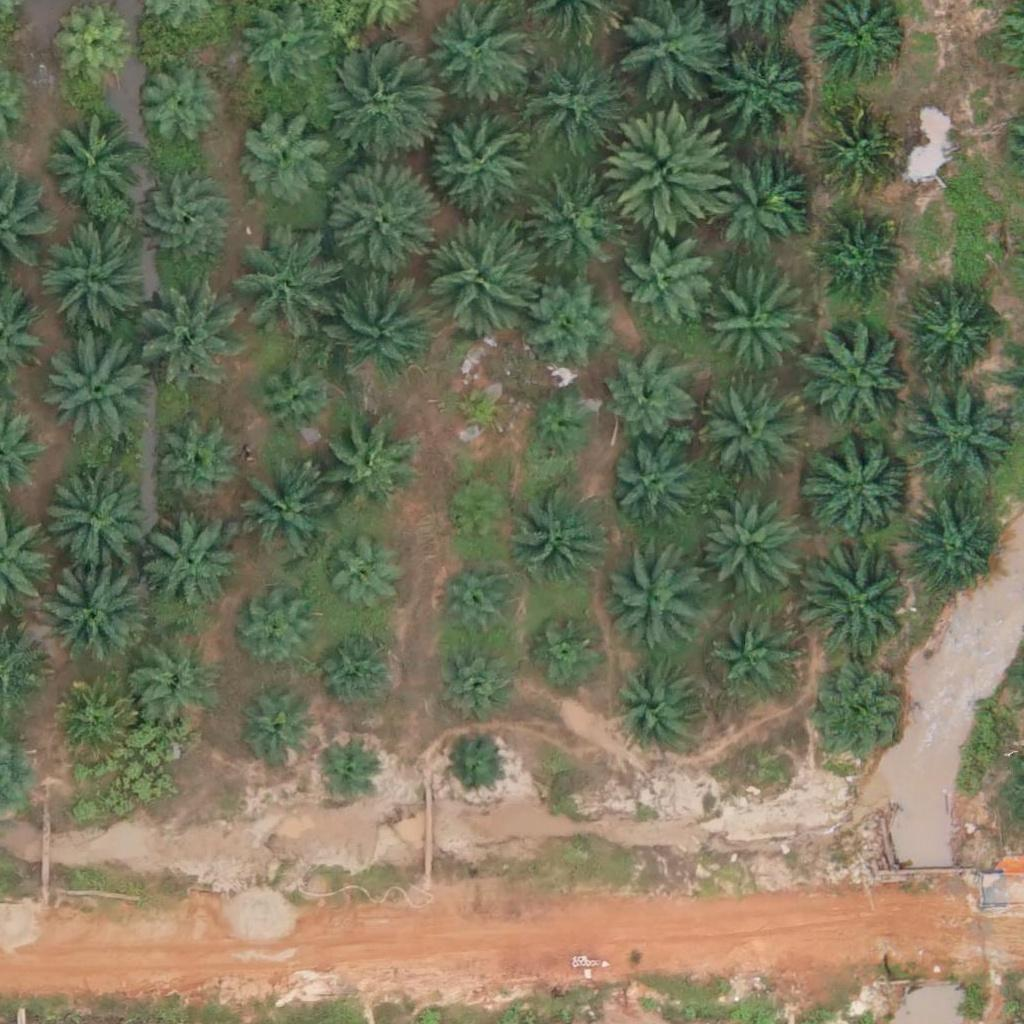Kelapa_Sawit: (609, 109, 734, 235), (35, 330, 148, 444), (900, 375, 1013, 488), (801, 319, 914, 432), (805, 430, 918, 543), (517, 47, 630, 160), (424, 102, 537, 215), (321, 163, 434, 276), (40, 557, 153, 670), (32, 461, 145, 574), (321, 265, 433, 379), (38, 226, 150, 340), (804, 542, 916, 655), (417, 3, 529, 116), (422, 220, 534, 333), (319, 54, 431, 167), (132, 271, 244, 384), (899, 496, 999, 597), (807, 669, 907, 770), (718, 39, 818, 140), (704, 276, 804, 377), (699, 388, 799, 489), (695, 496, 795, 597), (521, 168, 621, 269), (523, 269, 623, 370), (315, 417, 415, 518), (229, 466, 329, 567), (229, 238, 329, 339), (139, 514, 239, 615), (42, 114, 142, 215), (514, 483, 614, 584), (703, 146, 803, 246), (606, 548, 706, 648), (236, 104, 336, 204), (134, 172, 234, 272), (910, 293, 998, 381), (810, 104, 898, 192), (603, 356, 691, 444), (428, 639, 516, 727), (47, 677, 135, 765), (250, 355, 338, 443), (606, 443, 693, 532), (236, 3, 323, 92), (813, 212, 900, 300), (713, 614, 800, 702), (615, 663, 702, 751), (621, 236, 708, 324), (438, 558, 525, 646), (133, 62, 220, 150), (155, 424, 242, 512), (132, 644, 219, 732), (321, 541, 396, 617), (323, 629, 398, 705), (522, 389, 597, 465), (441, 476, 516, 552), (55, 12, 130, 88), (529, 611, 604, 686), (241, 596, 316, 671), (239, 696, 314, 771), (312, 737, 375, 800), (445, 733, 507, 796), (448, 377, 510, 440)
